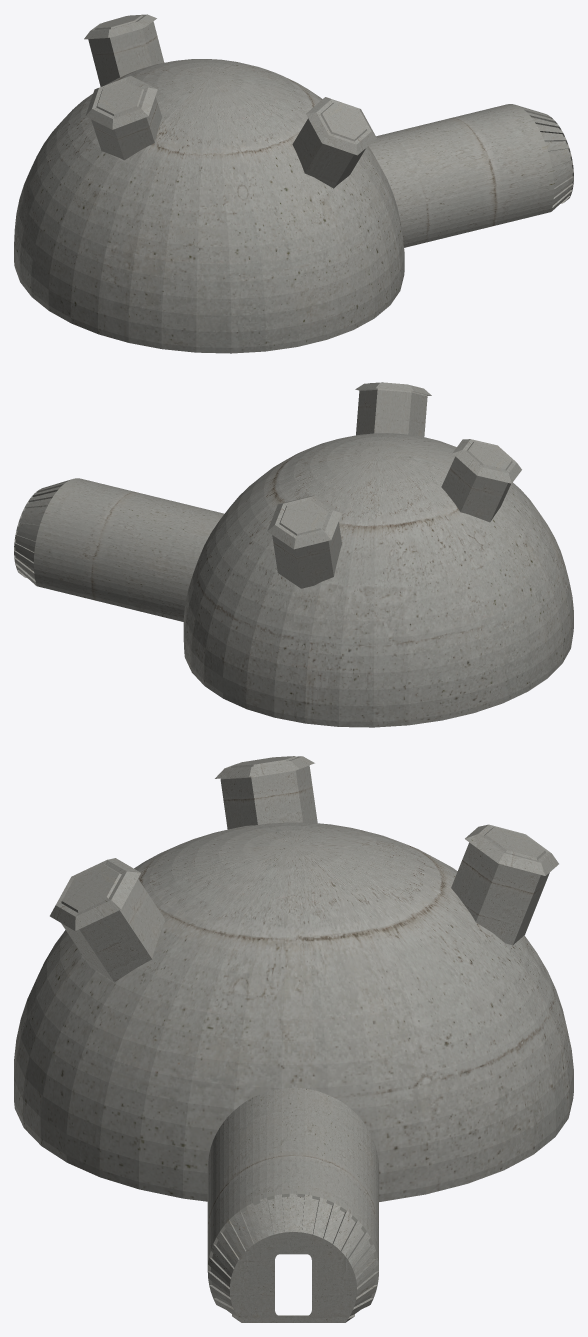
The model's file is lunarHousefbx.fbx.
3 views of the same model, one above another, from view 1: azimuth 30°, elevation 25°; view 2: azimuth 150°, elevation 25°; view 3: azimuth 270°, elevation 25° (orthographic). The views are drawn at different scales.
Parts seen in each view (by area): view 1: Sphere; view 2: Sphere; view 3: Sphere.
Part boxes in pixels (bbox=[...]): Sphere: bbox=[14, 14, 573, 353]; Sphere: bbox=[14, 382, 573, 727]; Sphere: bbox=[14, 756, 573, 1322].
Size of the model in its own units: 2752 by 1097 by 1961.
1 material, 1 textured.
